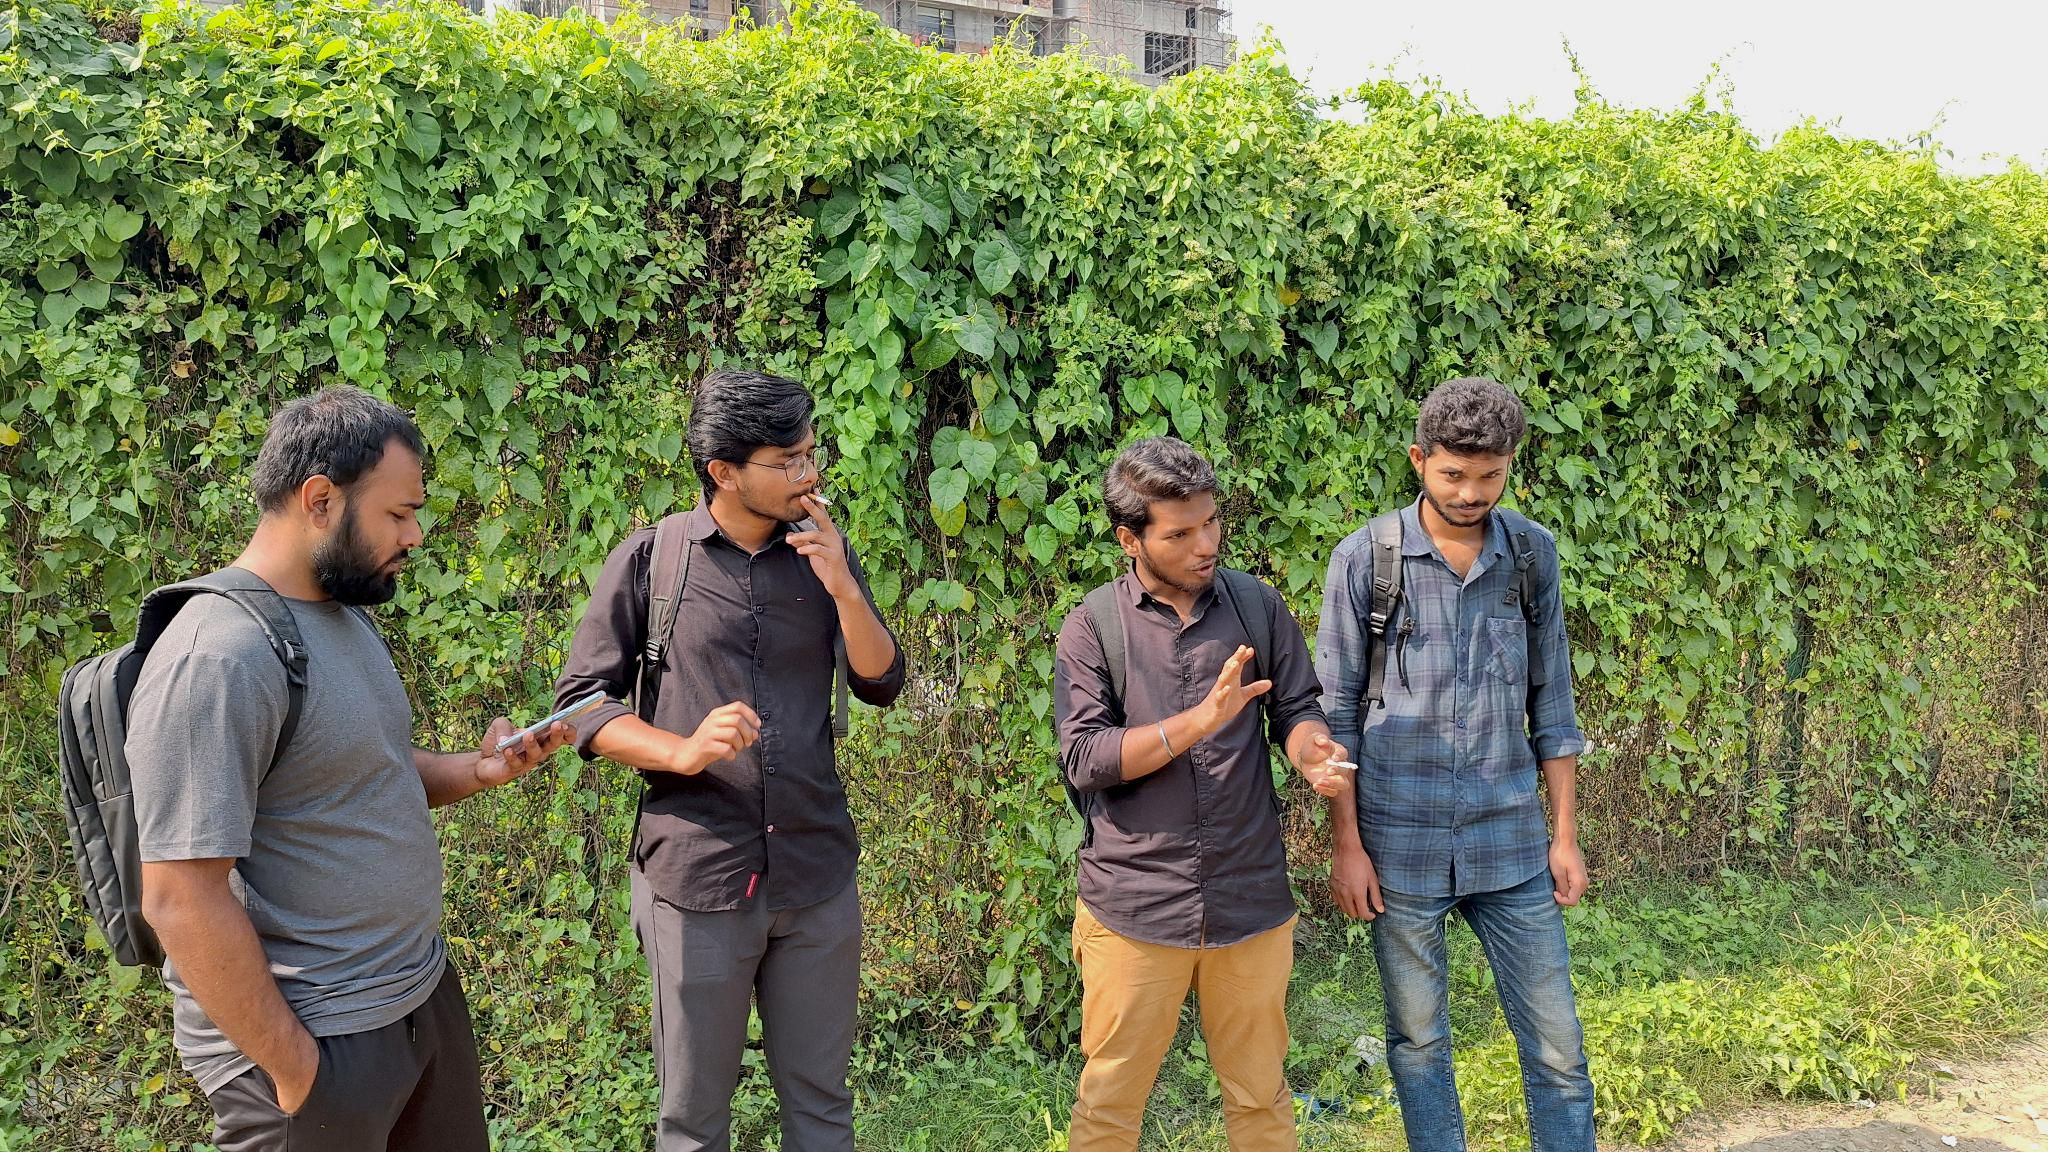cigarette: (805, 489, 834, 508), (1325, 757, 1360, 771)
nonSmoker: (59, 384, 577, 1152), (1312, 377, 1596, 1152)
smoker: (549, 370, 906, 1152), (1054, 436, 1350, 1152)
